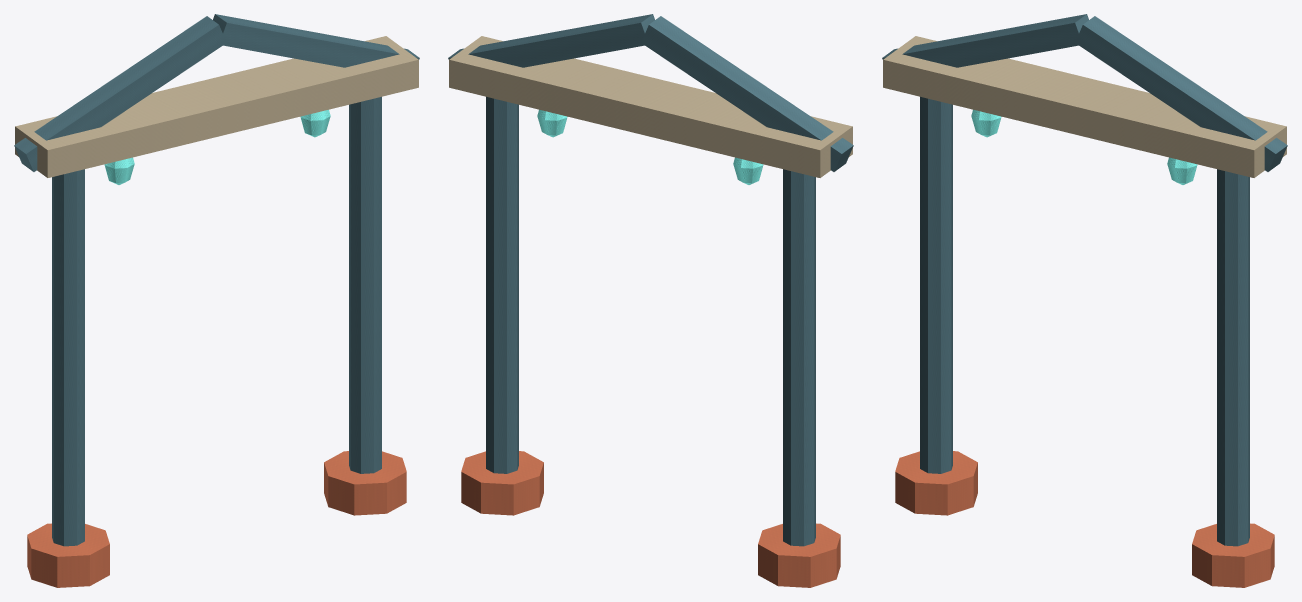
Rendered from atlas100-s041-a09.glb.
3 renders of one model, left to right at view 1: azimuth 30°, elevation 25°; view 2: azimuth 150°, elevation 25°; view 3: azimuth 330°, elevation 25°, orthographic.
Visible parts, largest first — view 1: atlas100-s041-a09:part-004, atlas100-s041-a09:part-002, atlas100-s041-a09:part-000, atlas100-s041-a09:part-005, atlas100-s041-a09:part-006, atlas100-s041-a09:part-001, atlas100-s041-a09:part-003, atlas100-s041-a09:part-007, atlas100-s041-a09:part-008; view 2: atlas100-s041-a09:part-004, atlas100-s041-a09:part-002, atlas100-s041-a09:part-000, atlas100-s041-a09:part-005, atlas100-s041-a09:part-006, atlas100-s041-a09:part-001, atlas100-s041-a09:part-003, atlas100-s041-a09:part-007, atlas100-s041-a09:part-008; view 3: atlas100-s041-a09:part-004, atlas100-s041-a09:part-000, atlas100-s041-a09:part-002, atlas100-s041-a09:part-006, atlas100-s041-a09:part-005, atlas100-s041-a09:part-003, atlas100-s041-a09:part-001, atlas100-s041-a09:part-008, atlas100-s041-a09:part-007.
Boxes of the visible parts, x1,y1,x2,y2 form: atlas100-s041-a09:part-004: (15,36,418,177); atlas100-s041-a09:part-002: (349,96,381,473); atlas100-s041-a09:part-000: (52,169,84,546); atlas100-s041-a09:part-005: (14,16,226,171); atlas100-s041-a09:part-006: (213,14,419,67); atlas100-s041-a09:part-001: (27,523,109,587); atlas100-s041-a09:part-003: (324,451,406,515); atlas100-s041-a09:part-007: (104,157,134,184); atlas100-s041-a09:part-008: (300,109,330,137); atlas100-s041-a09:part-004: (449,36,852,177); atlas100-s041-a09:part-002: (486,96,518,473); atlas100-s041-a09:part-000: (783,169,815,546); atlas100-s041-a09:part-005: (641,16,853,171); atlas100-s041-a09:part-006: (448,14,654,67); atlas100-s041-a09:part-001: (758,523,840,587); atlas100-s041-a09:part-003: (461,451,543,515); atlas100-s041-a09:part-007: (733,157,763,184); atlas100-s041-a09:part-008: (537,109,567,137); atlas100-s041-a09:part-004: (883,36,1286,177); atlas100-s041-a09:part-000: (920,96,952,473); atlas100-s041-a09:part-002: (1217,169,1249,546); atlas100-s041-a09:part-006: (1076,16,1287,171); atlas100-s041-a09:part-005: (882,14,1088,67); atlas100-s041-a09:part-003: (1192,523,1274,587); atlas100-s041-a09:part-001: (895,451,977,515); atlas100-s041-a09:part-008: (1167,157,1197,184); atlas100-s041-a09:part-007: (971,109,1001,137).
Bounding box in the file's own units: 2.65 × 3.31 × 0.5.
4 materials, 4 textured.
